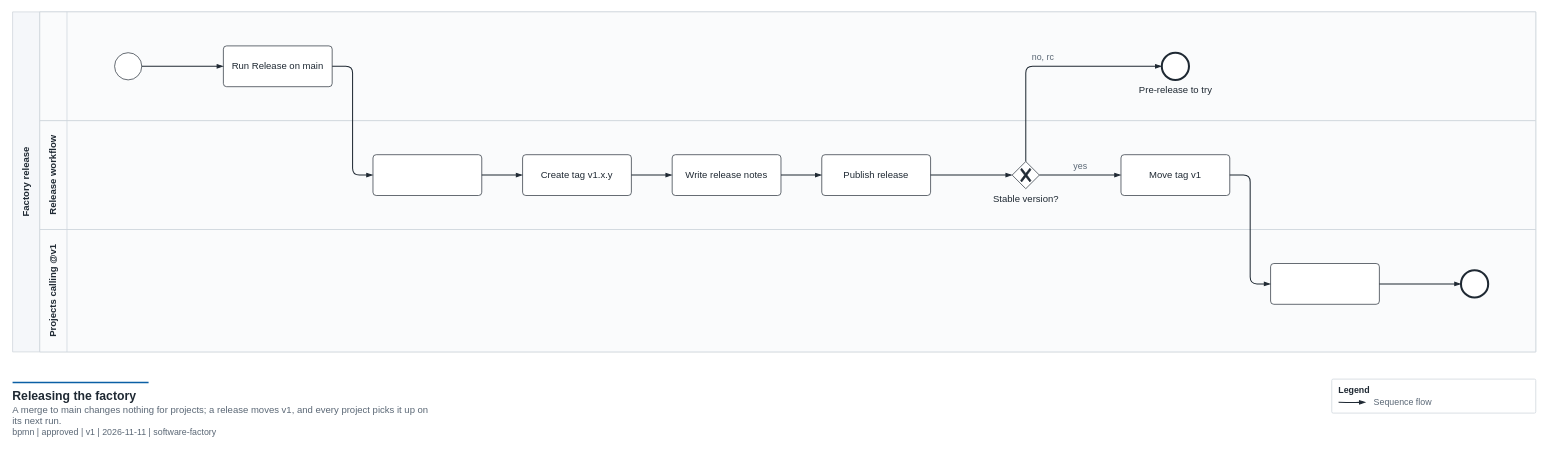
The diagram is 1548 pixels wide and 452 high, and some of its shapes have lost their labels. Here are the shapes that lost their labels. From the top down, the box of each, then its label:
(114, 52, 142, 80): Change merged to main
(39, 11, 1536, 121): You or Claude
(372, 154, 482, 196): Check version and main
(1270, 263, 1379, 304): Next run uses new v1
(1460, 270, 1488, 298): Release rolled out
